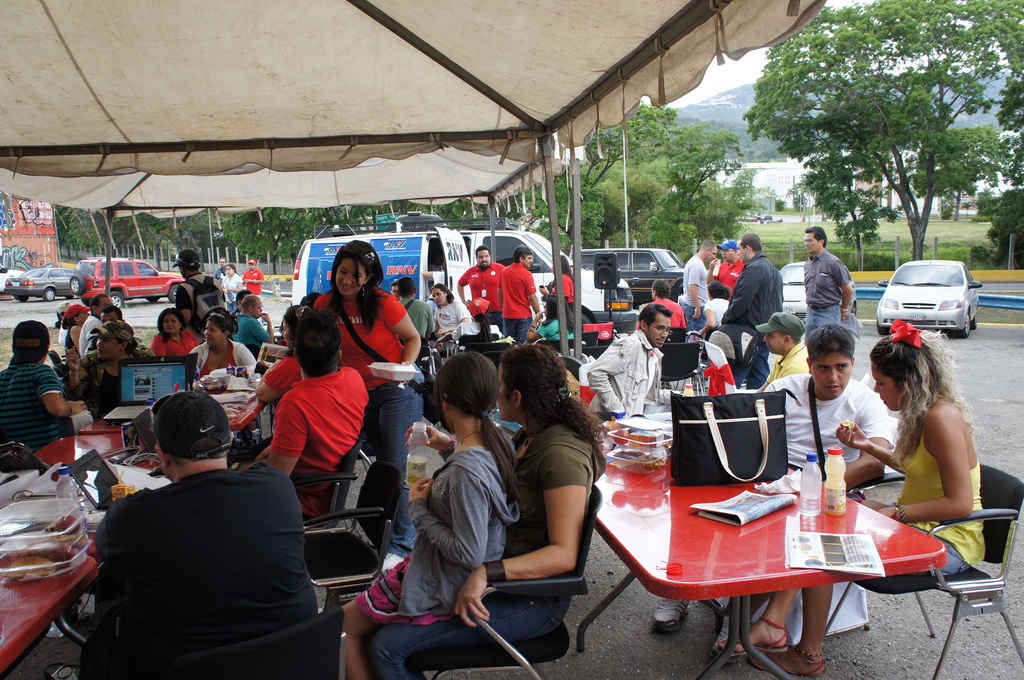Table: (600, 462, 975, 673), (1, 429, 175, 679), (88, 362, 263, 439)
